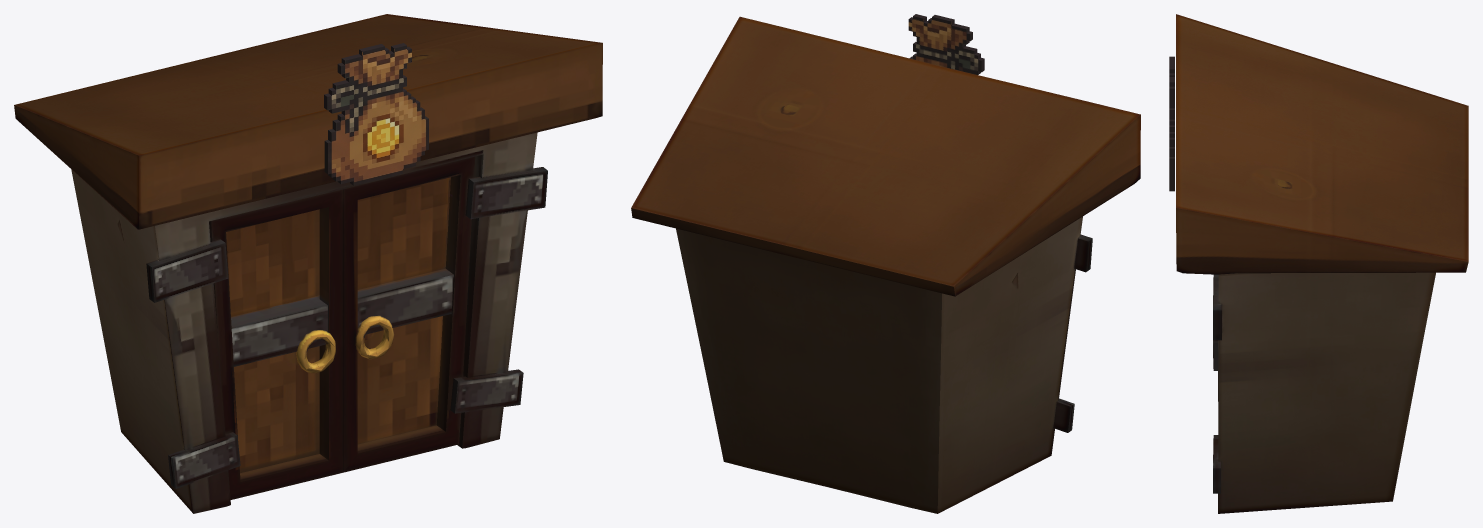
The model's file is Shop_Door.fbx.
3 views of the same model, side by side, from view 1: azimuth 30°, elevation 25°; view 2: azimuth 150°, elevation 25°; view 3: azimuth 270°, elevation 25° (orthographic). The views are drawn at different scales.
Visible parts, largest first — view 1: Shop_Base, Shop_Door_1, Shop_Door_2, Shop_Sign; view 2: Shop_Base, Shop_Sign; view 3: Shop_Base, Shop_Sign.
Boxes of the visible parts, bbox=[...] form: Shop_Base: bbox=[14, 14, 602, 513]; Shop_Door_1: bbox=[343, 156, 475, 472]; Shop_Door_2: bbox=[209, 189, 342, 499]; Shop_Sign: bbox=[324, 43, 428, 185]; Shop_Base: bbox=[631, 16, 1140, 513]; Shop_Sign: bbox=[908, 14, 984, 74]; Shop_Base: bbox=[1176, 14, 1468, 513]; Shop_Sign: bbox=[1169, 56, 1174, 191].
Bounding box in the file's own units: 296 × 274 × 193.
